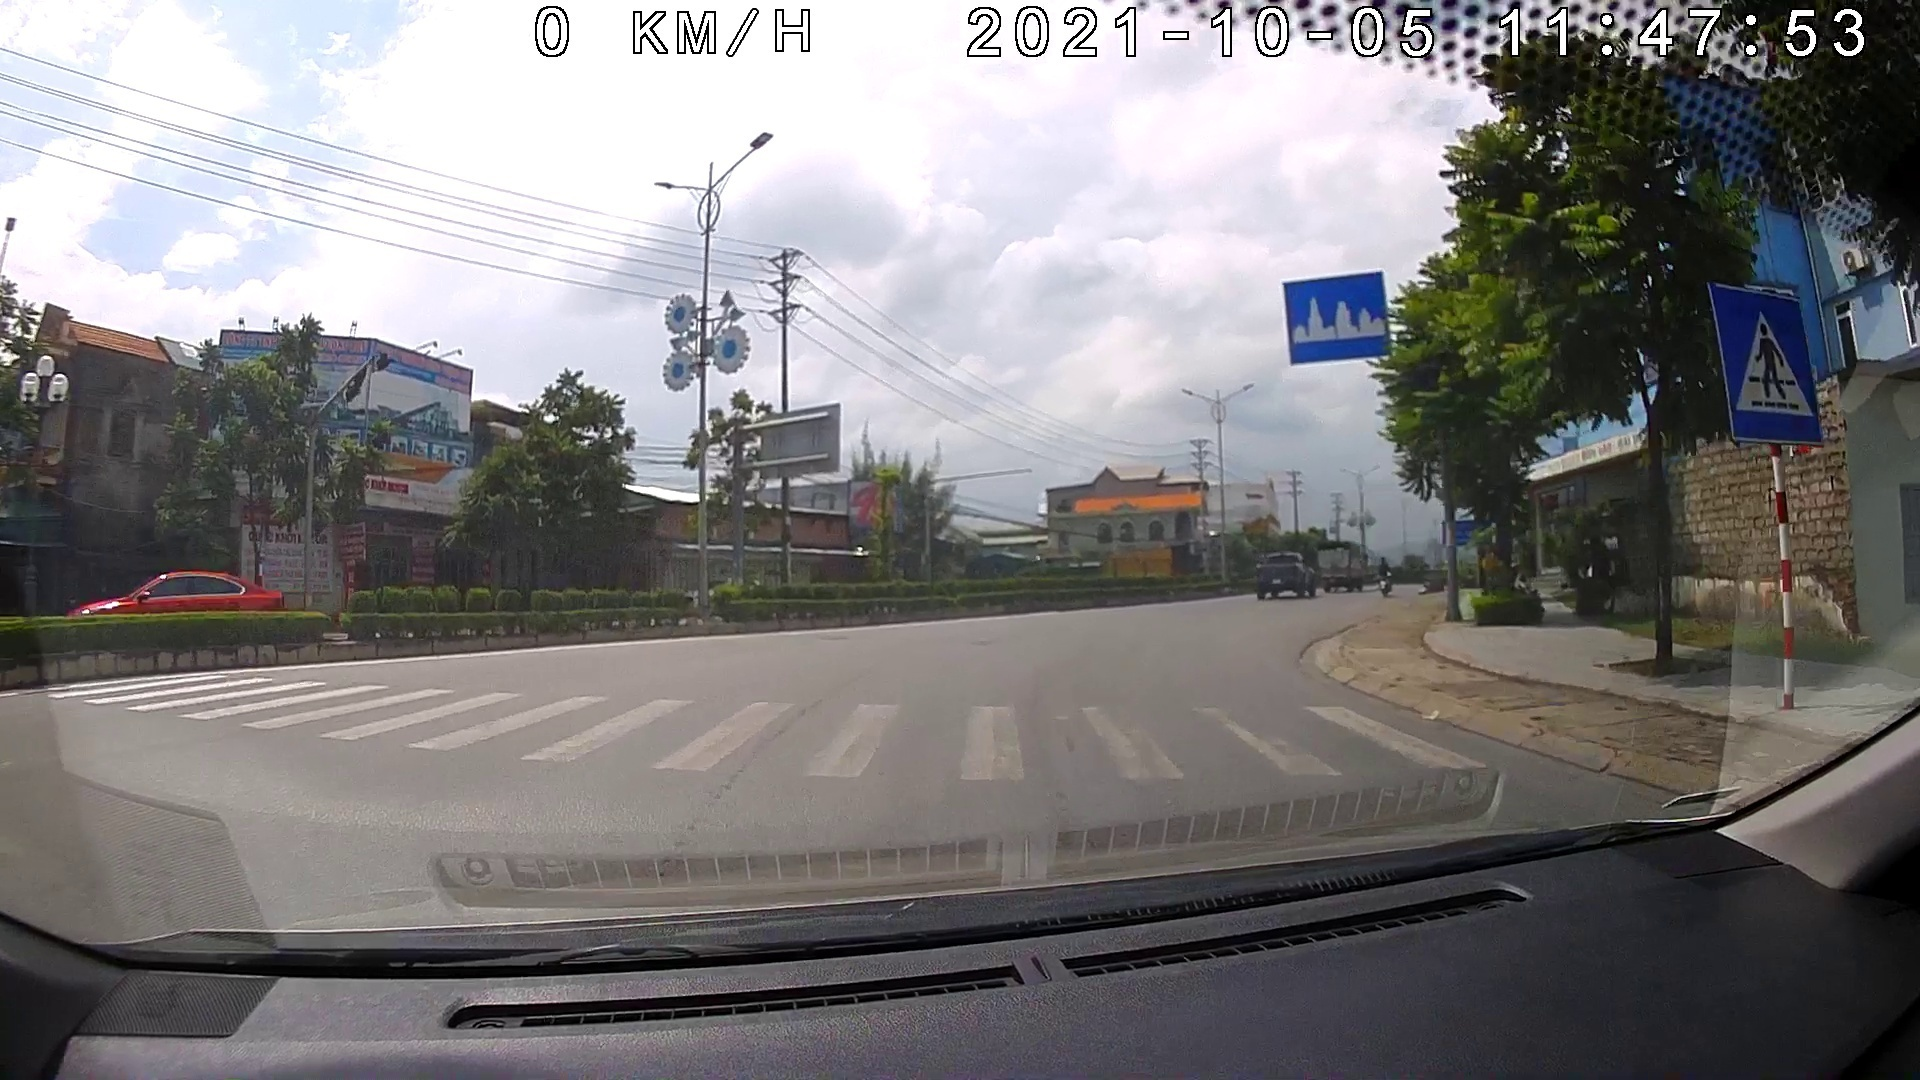Bien khac: (1280, 269, 1396, 369)
Nguoi di bo: (1702, 276, 1825, 451)
